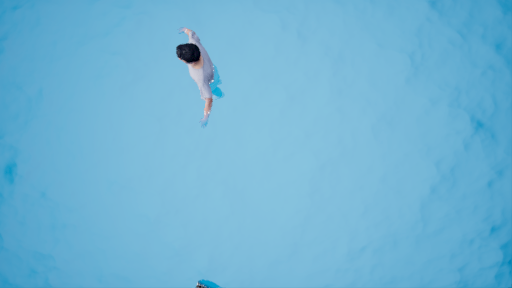person: (166, 28, 234, 138)
